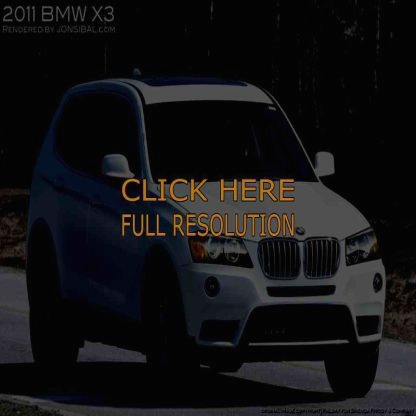Vehicle: (26, 69, 387, 398)
